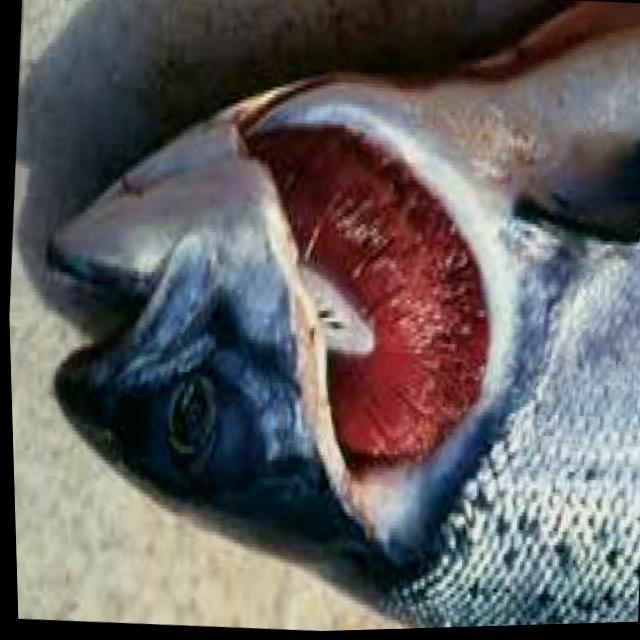Gill Disease: (189, 68, 580, 615)
